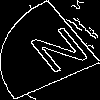N: (25, 25, 100, 83)
